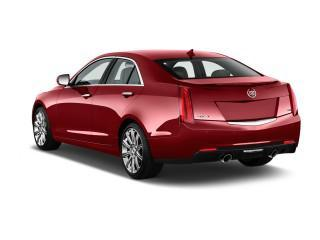cadillac: (244, 85, 260, 98)
